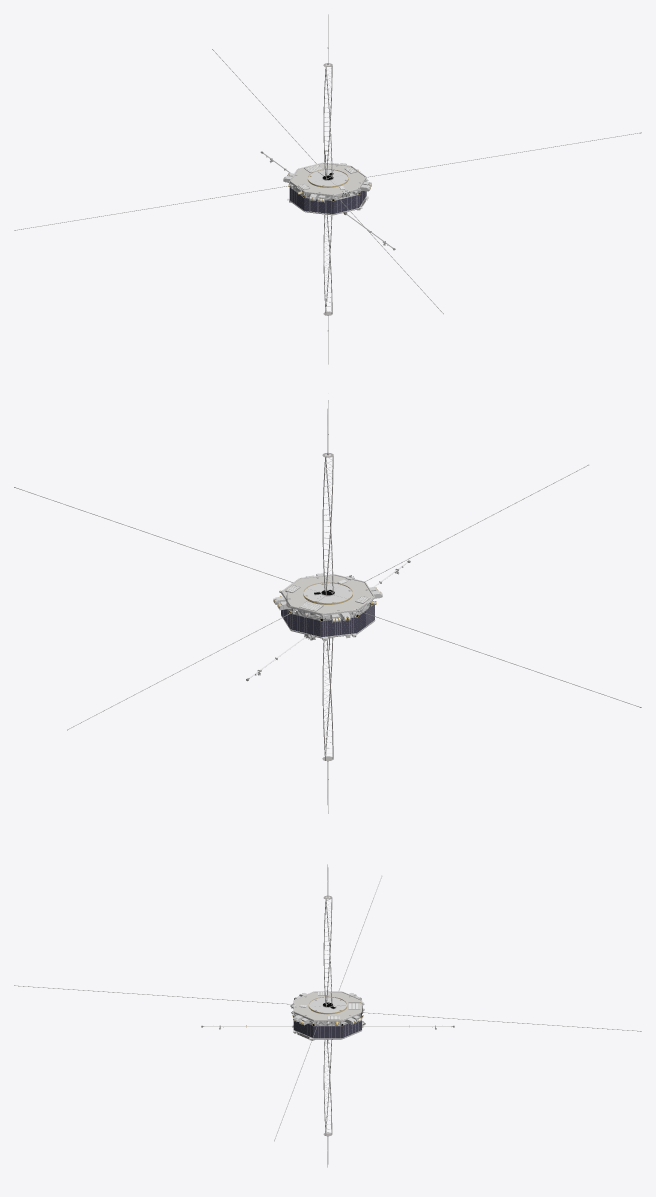
Rendered from mms.glb.
3 renders of one model, top to bottom at view 1: azimuth 30°, elevation 25°; view 2: azimuth 150°, elevation 25°; view 3: azimuth 270°, elevation 25°, orthographic. The views are drawn at different scales.
Visible parts, largest first — view 1: MainBus; view 2: MainBus; view 3: MainBus.
Boxes of the visible parts, left/top/right/bottom form: MainBus: left=14, top=14, right=641, bottom=364; MainBus: left=14, top=400, right=641, bottom=813; MainBus: left=14, top=864, right=641, bottom=1167.
Bounding box in the file's own units: 14.51 × 8.51 × 14.51.
